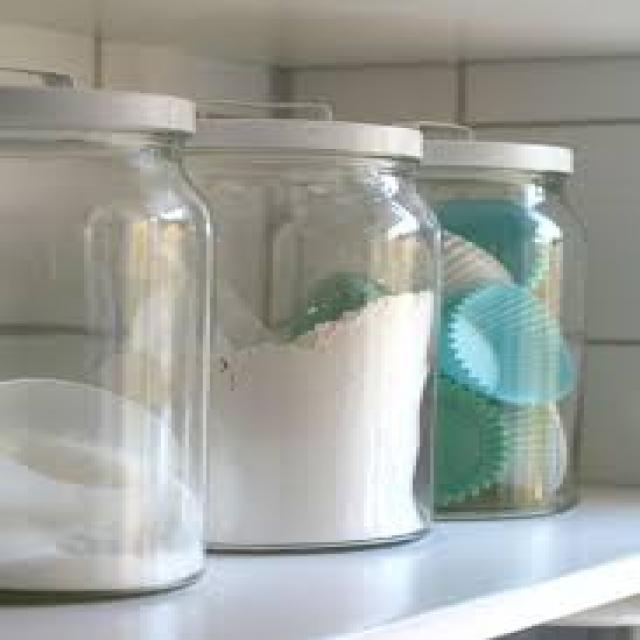organic waste: (196, 286, 413, 540)
